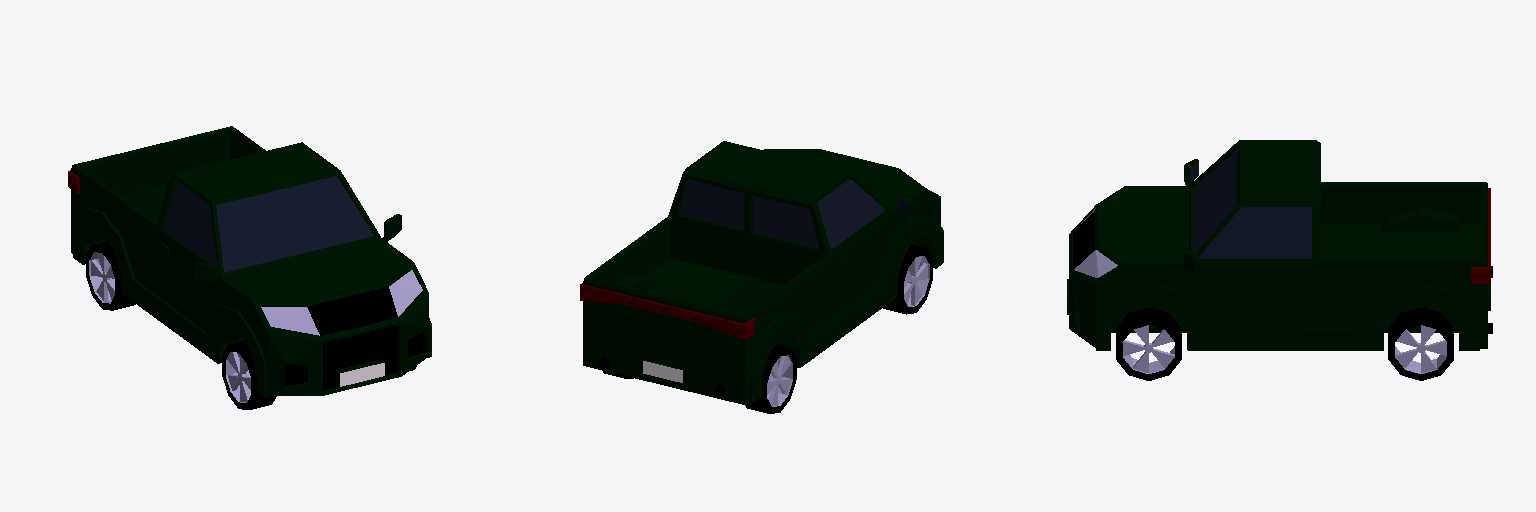
The model's file is pickup.obj.
3 renders of one model, left to right at view 1: azimuth 30°, elevation 25°; view 2: azimuth 150°, elevation 25°; view 3: azimuth 270°, elevation 25°, orthographic.
Parts seen in each view (by area): view 1: Pickup; view 2: Pickup; view 3: Pickup.
Boxes of the visible parts, box(x1,y1,x2,y2) form: Pickup: box(68, 126, 431, 409); Pickup: box(580, 141, 943, 413); Pickup: box(1067, 140, 1492, 380).
Size of the model in its own units: 2.81 by 2.21 by 5.04.